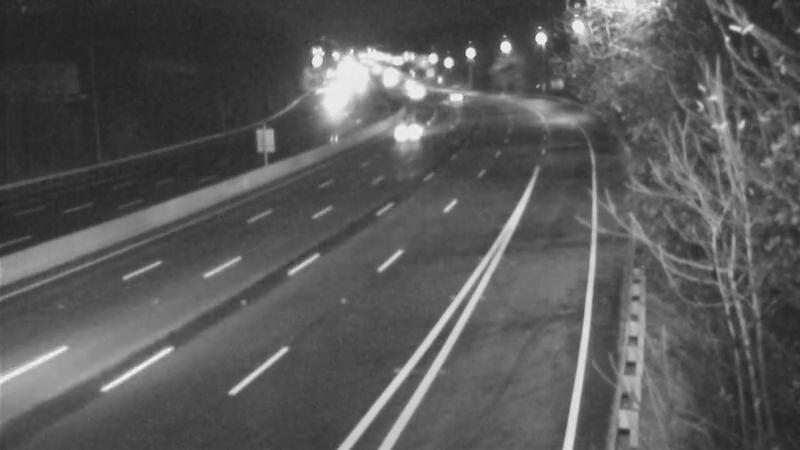vehicle: (388, 67, 438, 117), (428, 74, 478, 124), (381, 106, 431, 156)
